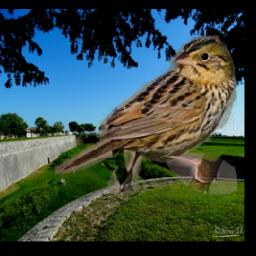Sparrow: (55, 36, 237, 195)
